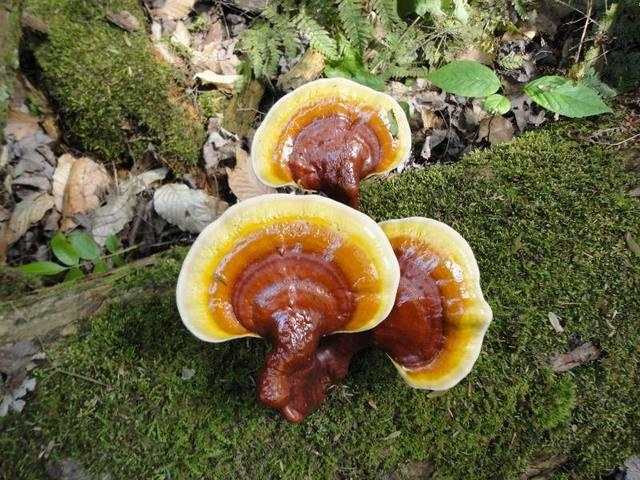Non-edible Mushroom: (174, 191, 401, 423), (369, 215, 493, 392), (249, 75, 412, 207)
